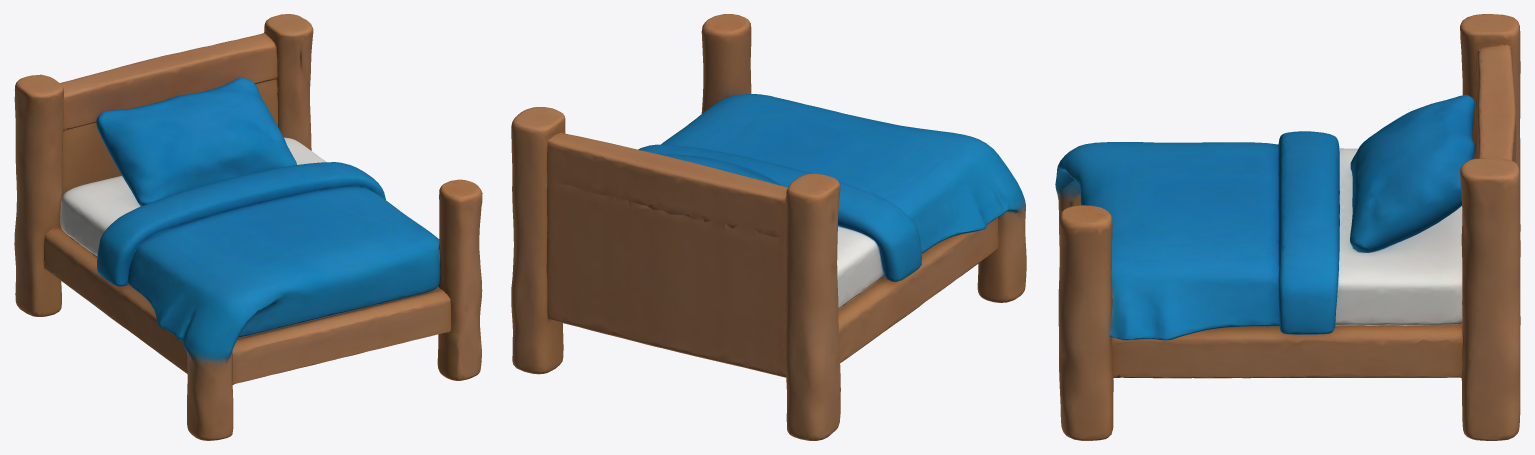
File: bed.glb
3 views of the same model, side by side, from view 1: azimuth 30°, elevation 25°; view 2: azimuth 150°, elevation 25°; view 3: azimuth 270°, elevation 25° (orthographic). The views are drawn at different scales.
Visible parts, largest first — view 1: Mesh; view 2: Mesh; view 3: Mesh.
Part boxes in pixels (left/top/right/bottom): Mesh: left=14, top=14, right=482, bottom=440; Mesh: left=511, top=14, right=1026, bottom=440; Mesh: left=1055, top=14, right=1520, bottom=440.
Size of the model in its own units: 1.59 by 1.19 by 1.89.
1 material, 1 textured.
